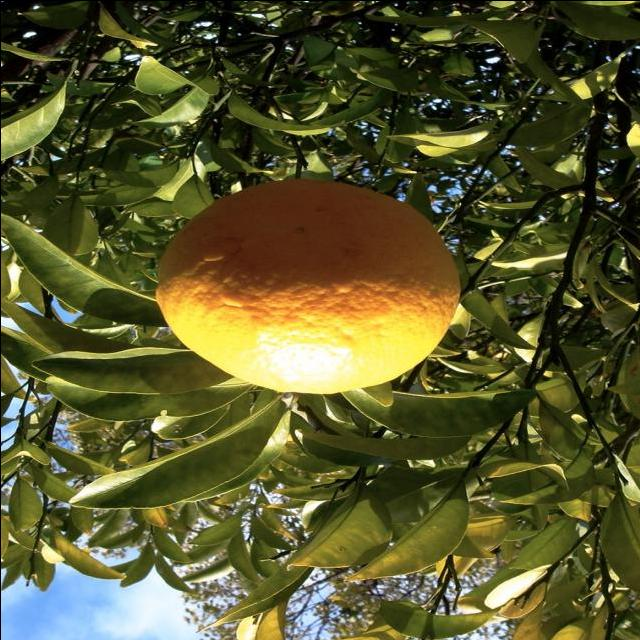Non_Gorille: (6, 4, 636, 640)
